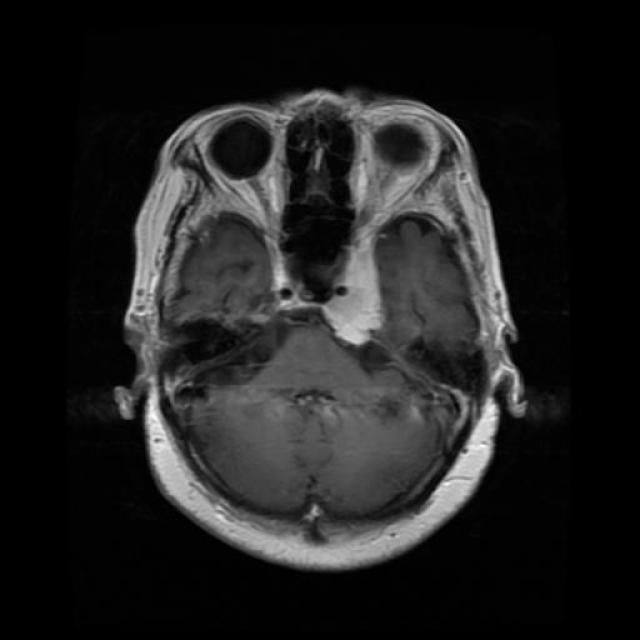meningioma: (324, 239, 384, 348)
